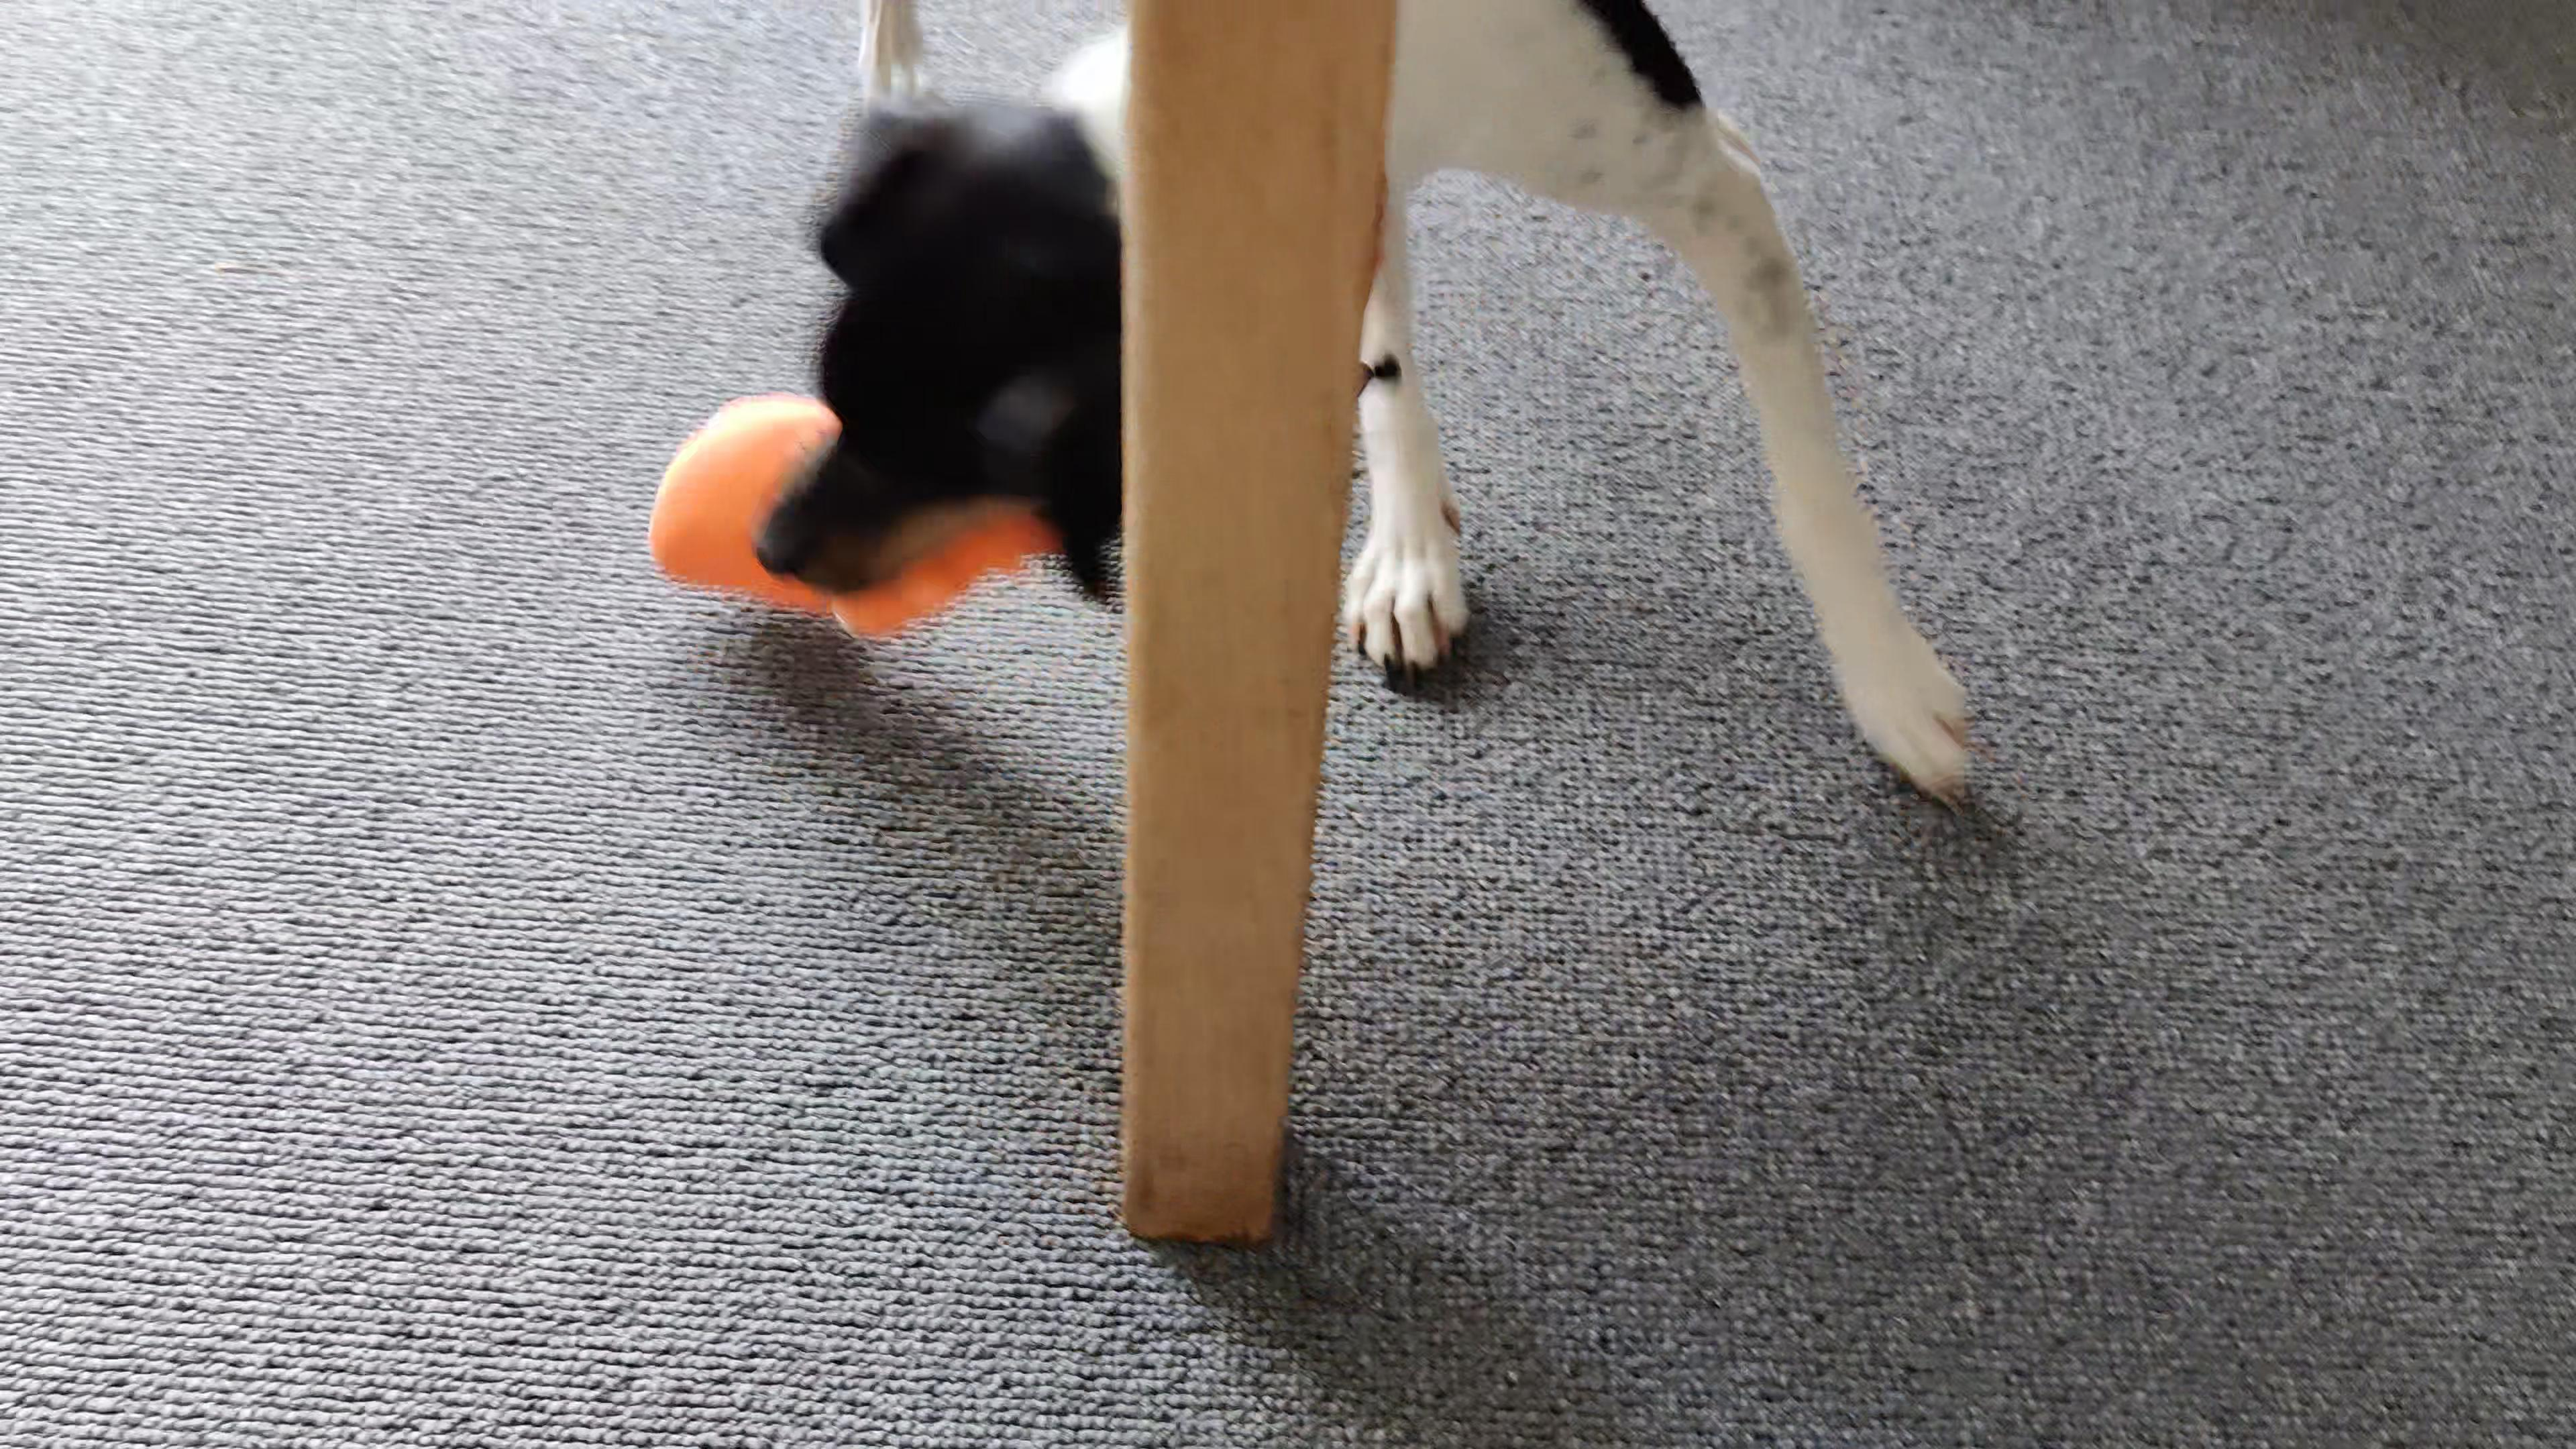Dog: (741, 0, 2013, 824)
